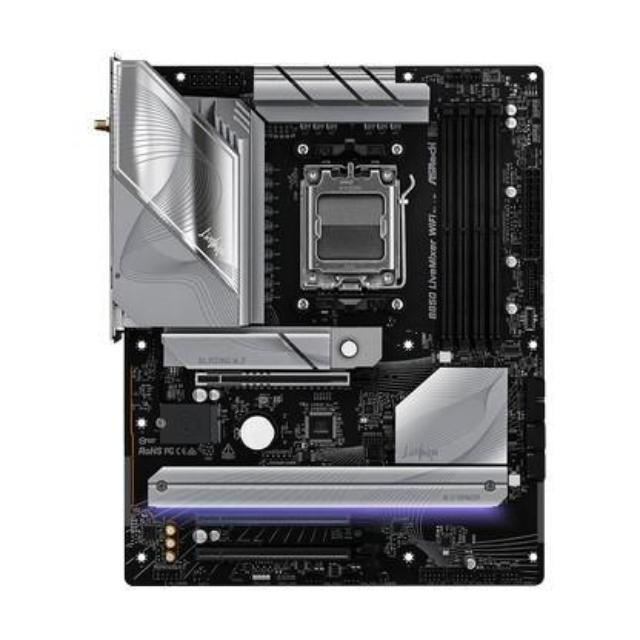Mainboard: (98, 49, 553, 588)
